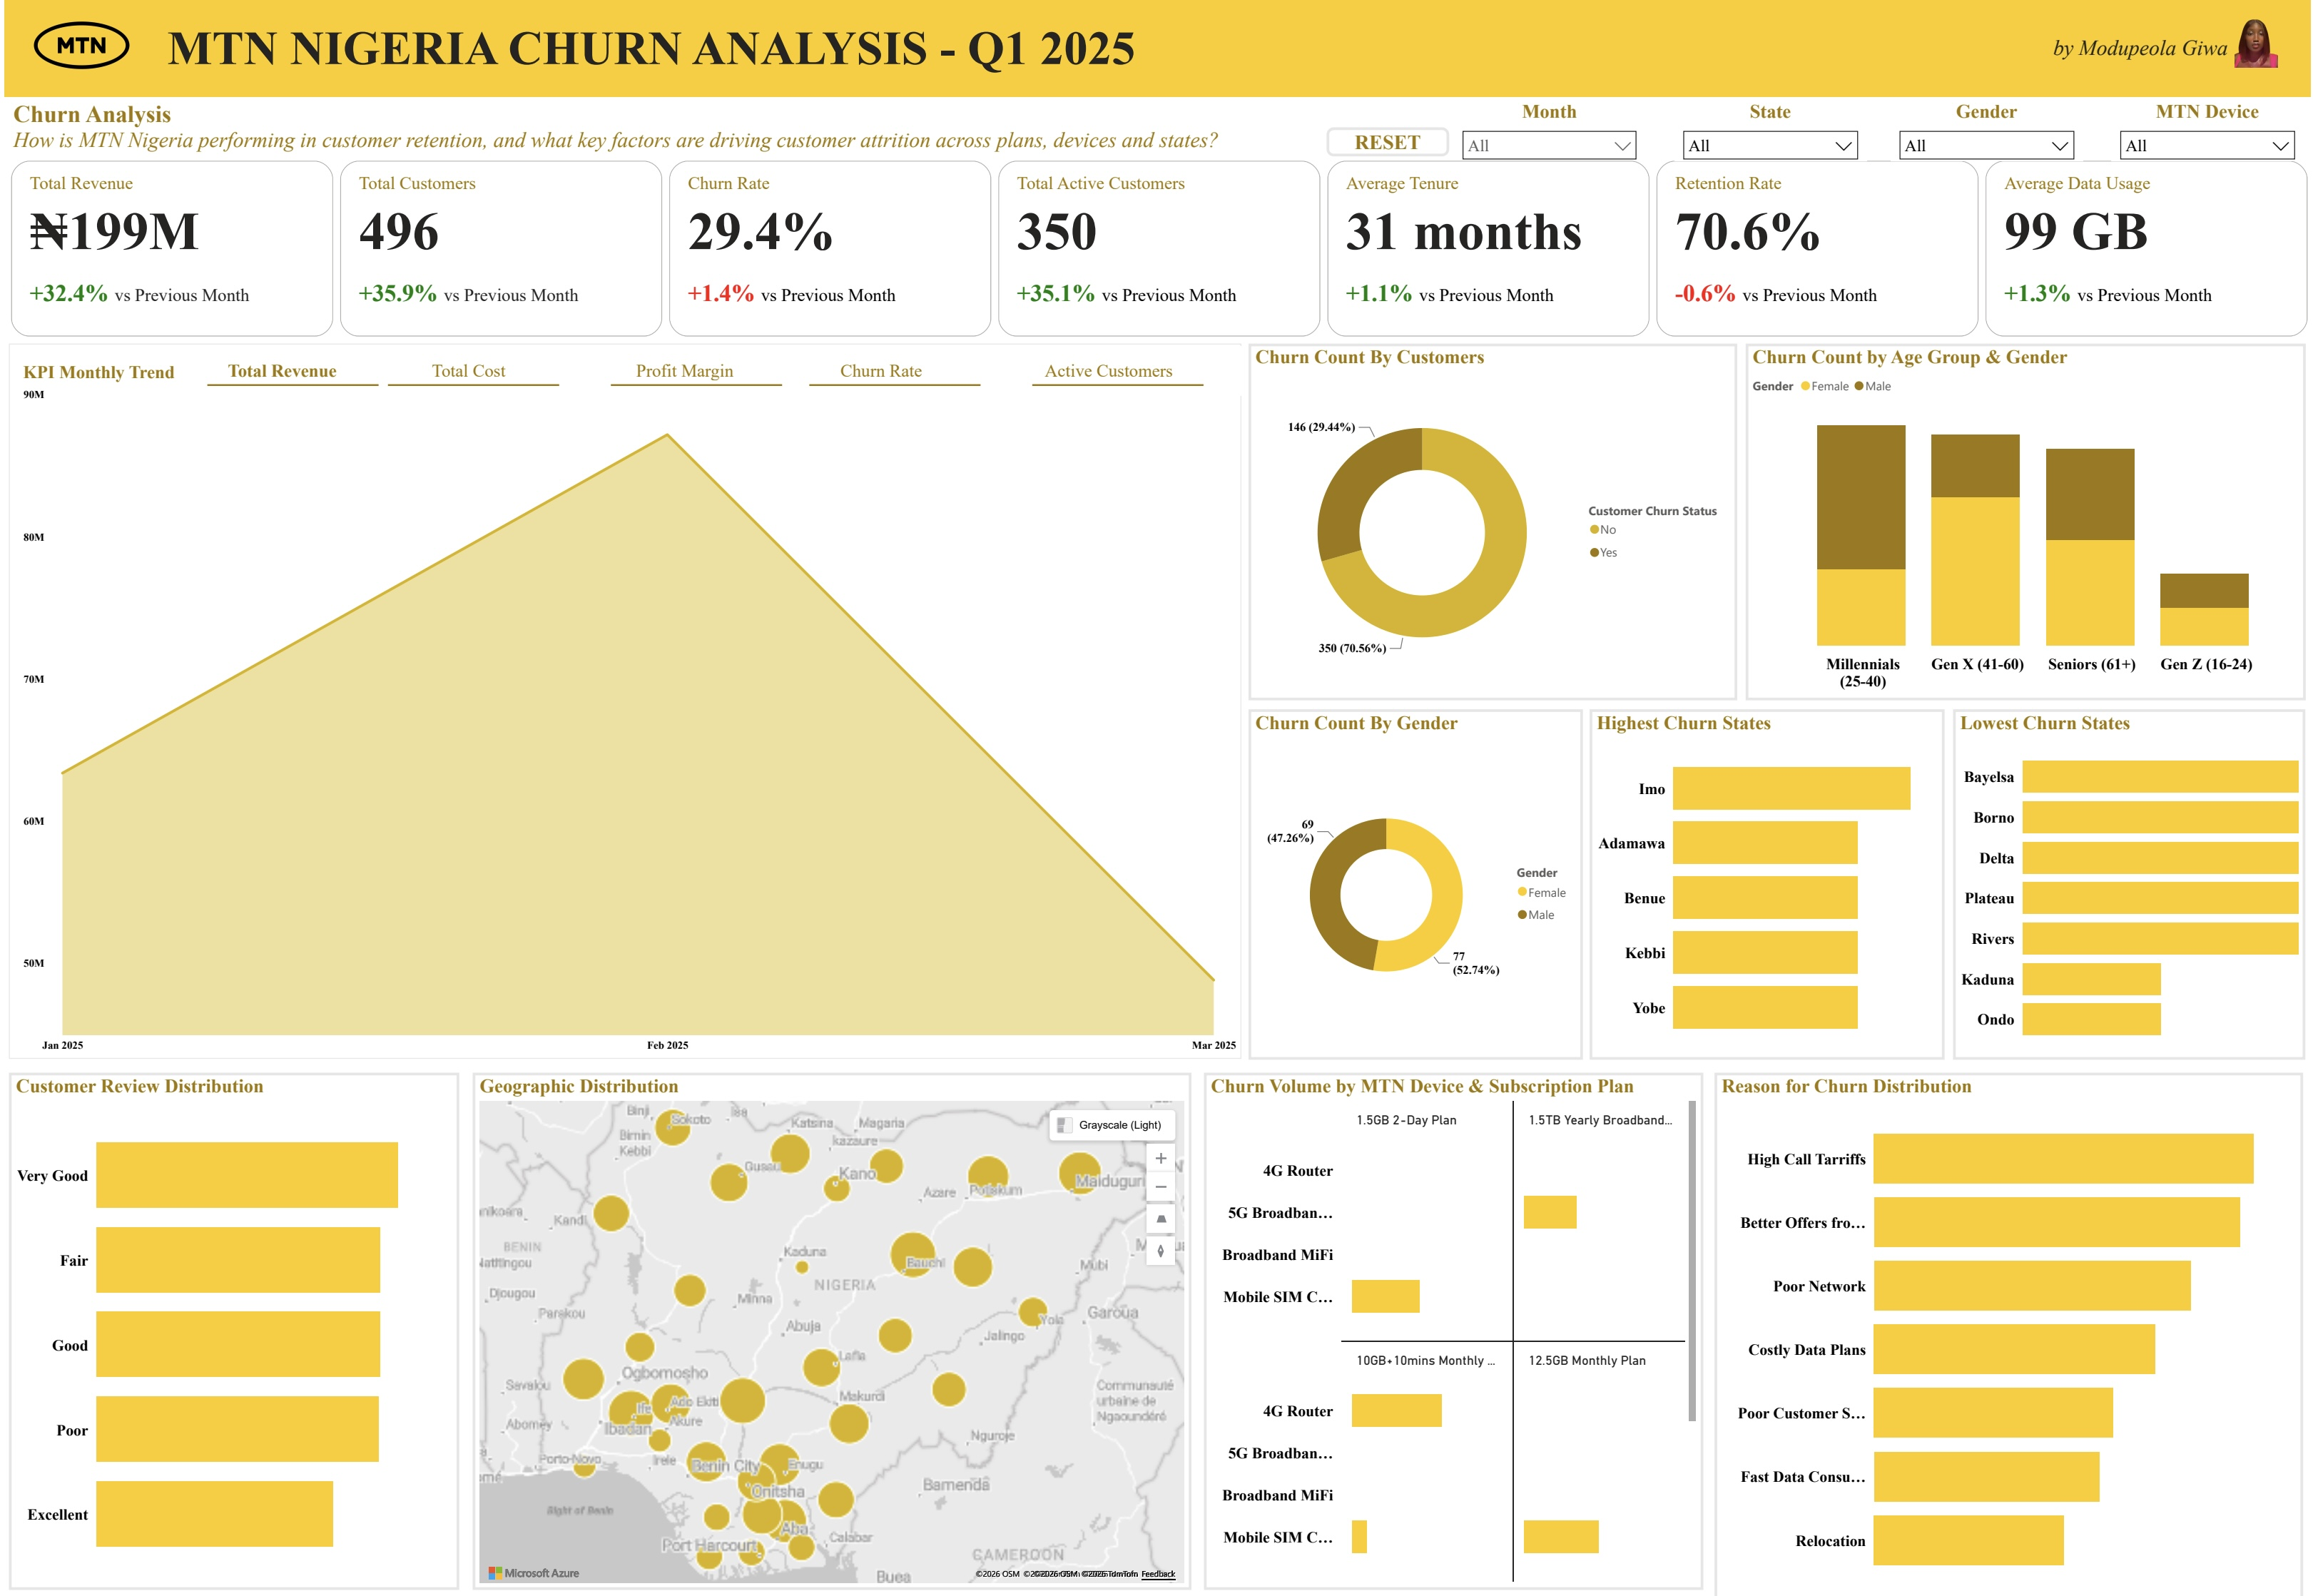

Layout of this report page (visuals, bound fields, positions):
{"tool":"powerbi","page":{"name":"Churn Analysis","canvas":[2600,1800],"ordinal":0},"visuals":[{"type":"textbox","box":[10,116,2576,68],"z":0},{"type":"slicer","title":"Month","fields":{"Values":["powerbi_live_table.Date of Purchase"]},"box":[1630,120,215.2,66.8],"z":0,"group":"g2"},{"type":"slicer","title":"State","fields":{"Values":["powerbi_live_table.State"]},"box":[1876.9,120.7,215.6,67.5],"z":1000,"group":"g2"},{"type":"areaChart","title":"KPI Monthly Trend","fields":{"Category":["powerbi_live_table.Date of Purchase"],"Y":["powerbi_live_table.Actual Total Revenue"]},"box":[10,392,1382,802],"z":1000},{"type":"shape","box":[4,0,2586,116],"z":2000},{"type":"slicer","title":"Gender","fields":{"Values":["powerbi_live_table.Gender"]},"box":[2120.5,120.7,215.6,67.5],"z":2000,"group":"g2"},{"type":"image","box":[0,0,184,116],"z":3000},{"type":"slicer","title":"MTN Device","fields":{"Values":["powerbi_live_table.MTN Device"]},"box":[2368.4,120.7,215.6,67.5],"z":3000,"group":"g2"},{"type":"textbox","box":[183.3,25,1095.8,75],"z":4000},{"type":"columnChart","title":"Churn Count by Age Group & Gender","fields":{"Category":["powerbi_live_table.Age Group"],"Series":["powerbi_live_table.Gender"],"Y":["powerbi_live_table.Churned Customers"]},"box":[1957.5,392.5,627.5,400],"z":5000},{"type":"donutChart","title":"Churn Count By Gender","fields":{"Category":["powerbi_live_table.Gender"],"Y":["powerbi_live_table.Churned Customers"]},"box":[1400,802.5,375,392.5],"z":6000},{"type":"azureMap","title":"Geographic Distribution","fields":{"Category":["powerbi_live_table.State"],"Size":["Count(powerbi_live_table.Customer ID)"]},"box":[530,1210,806,580],"z":7000},{"type":"cardVisual","fields":{"Data":["Sum(powerbi_live_table.Total Revenue)","Count(powerbi_live_table.Customer ID)","powerbi_live_table.Churn Rate","powerbi_live_table.Active Customers","powerbi_live_table.Average Tenure Display","powerbi_live_table.Retention Rate","powerbi_live_table.Data Usage Display"]},"box":[7.3,182.9,2585.4,207.3],"z":8000},{"type":"clusteredBarChart","title":"Reason for Churn Distribution","fields":{"Category":["powerbi_live_table.Reasons for Churn"],"Y":["CountNonNull(powerbi_live_table.Customer ID)"]},"box":[1890,1210,692,590],"z":9000},{"type":"barChart","title":"Highest Churn States","fields":{"Category":["powerbi_live_table.State"],"Y":["powerbi_live_table.Churned Customers"]},"box":[1782.5,802.5,397.5,392.5],"z":10000},{"type":"advancedSlicerVisual","fields":{"Values":["Parameter.Parameter"]},"box":[232,396,1160,56],"z":11000,"group":"g1"},{"type":"barChart","title":"Lowest Churn States","fields":{"Category":["powerbi_live_table.State"],"Y":["powerbi_live_table.Churned Customers"]},"box":[2190,802.5,395,392.5],"z":11000},{"type":"clusteredBarChart","title":"Churn Volume by MTN Device & Subscription Plan","fields":{"Category":["powerbi_live_table.MTN Device"],"Rows":["powerbi_live_table.Subscription Plan"],"Y":["powerbi_live_table.Churned Customers"]},"box":[1350,1210,526,580],"z":12000},{"type":"barChart","title":"Customer Review Distribution","fields":{"Category":["powerbi_live_table.Customer Review"],"Y":["CountNonNull(powerbi_live_table.Customer ID)"]},"box":[10,1210,505,580],"z":13000},{"type":"donutChart","title":"Churn Count By Customers","fields":{"Category":["powerbi_live_table.Customer Churn Status"],"Y":["Count(powerbi_live_table.Customer ID)"]},"box":[1400,392.5,547.5,400],"z":14000},{"type":"shape","box":[908,420,192,38],"z":15000},{"type":"group","id":"g1","title":"Group 1","box":[232,396,1160,62],"z":16000},{"type":"group","id":"g2","title":"Group 2","box":[1630,120,955,67.5],"z":17000},{"type":"shape","box":[232,420,192,38],"z":17000,"group":"g1"},{"type":"textbox","box":[2297.9,41.7,227.1,41.7],"z":18000},{"type":"shape","box":[434,420,192,38],"z":18000,"group":"g1"},{"type":"image","box":[2460.4,22.9,139.6,64.6],"z":19000},{"type":"shape","box":[684,420,192,38],"z":19000,"group":"g1"},{"type":"actionButton","box":[1487.5,150,137.5,32.5],"z":20000},{"type":"shape","box":[908,420,192,38],"z":21000,"group":"g1"},{"type":"shape","box":[1158,420,192,38],"z":22000,"group":"g1"}]}

Visuals, with their boxes in screenshot pixels (x1, y1, x2, y2), scaled from the page's 2600x1800 canvas onto the 2313x1596 screenshot:
textbox: <bbox>9, 103, 2301, 163</bbox>
"Month" slicer: <bbox>1450, 106, 1642, 166</bbox>
"State" slicer: <bbox>1669, 107, 1861, 167</bbox>
"KPI Monthly Trend" areaChart: <bbox>9, 347, 1239, 1059</bbox>
shape: <bbox>4, 0, 2304, 103</bbox>
"Gender" slicer: <bbox>1886, 107, 2078, 167</bbox>
image: <bbox>0, 0, 163, 103</bbox>
"MTN Device" slicer: <bbox>2107, 107, 2299, 167</bbox>
textbox: <bbox>163, 22, 1138, 88</bbox>
"Churn Count by Age Group & Gender" columnChart: <bbox>1742, 348, 2299, 703</bbox>
"Churn Count By Gender" donutChart: <bbox>1246, 711, 1579, 1059</bbox>
"Geographic Distribution" azureMap: <bbox>472, 1073, 1189, 1587</bbox>
cardVisual - Sum(powerbi_live_table.Total Revenue) x Count(powerbi_live_table.Customer ID): <bbox>6, 162, 2307, 346</bbox>
"Reason for Churn Distribution" clusteredBarChart: <bbox>1682, 1073, 2297, 1595</bbox>
"Highest Churn States" barChart: <bbox>1586, 711, 1939, 1059</bbox>
advancedSlicerVisual - Parameter.Parameter: <bbox>206, 351, 1239, 401</bbox>
"Lowest Churn States" barChart: <bbox>1948, 711, 2299, 1059</bbox>
"Churn Volume by MTN Device & Subscription Plan" clusteredBarChart: <bbox>1201, 1073, 1669, 1587</bbox>
"Customer Review Distribution" barChart: <bbox>9, 1073, 458, 1587</bbox>
"Churn Count By Customers" donutChart: <bbox>1246, 348, 1732, 703</bbox>
shape: <bbox>808, 372, 979, 406</bbox>
"Group 1" group: <bbox>206, 351, 1239, 406</bbox>
"Group 2" group: <bbox>1450, 106, 2299, 166</bbox>
shape: <bbox>206, 372, 377, 406</bbox>
textbox: <bbox>2044, 37, 2246, 74</bbox>
shape: <bbox>386, 372, 557, 406</bbox>
image: <bbox>2189, 20, 2312, 78</bbox>
shape: <bbox>609, 372, 779, 406</bbox>
actionButton: <bbox>1323, 133, 1445, 162</bbox>
shape: <bbox>808, 372, 979, 406</bbox>
shape: <bbox>1030, 372, 1201, 406</bbox>
